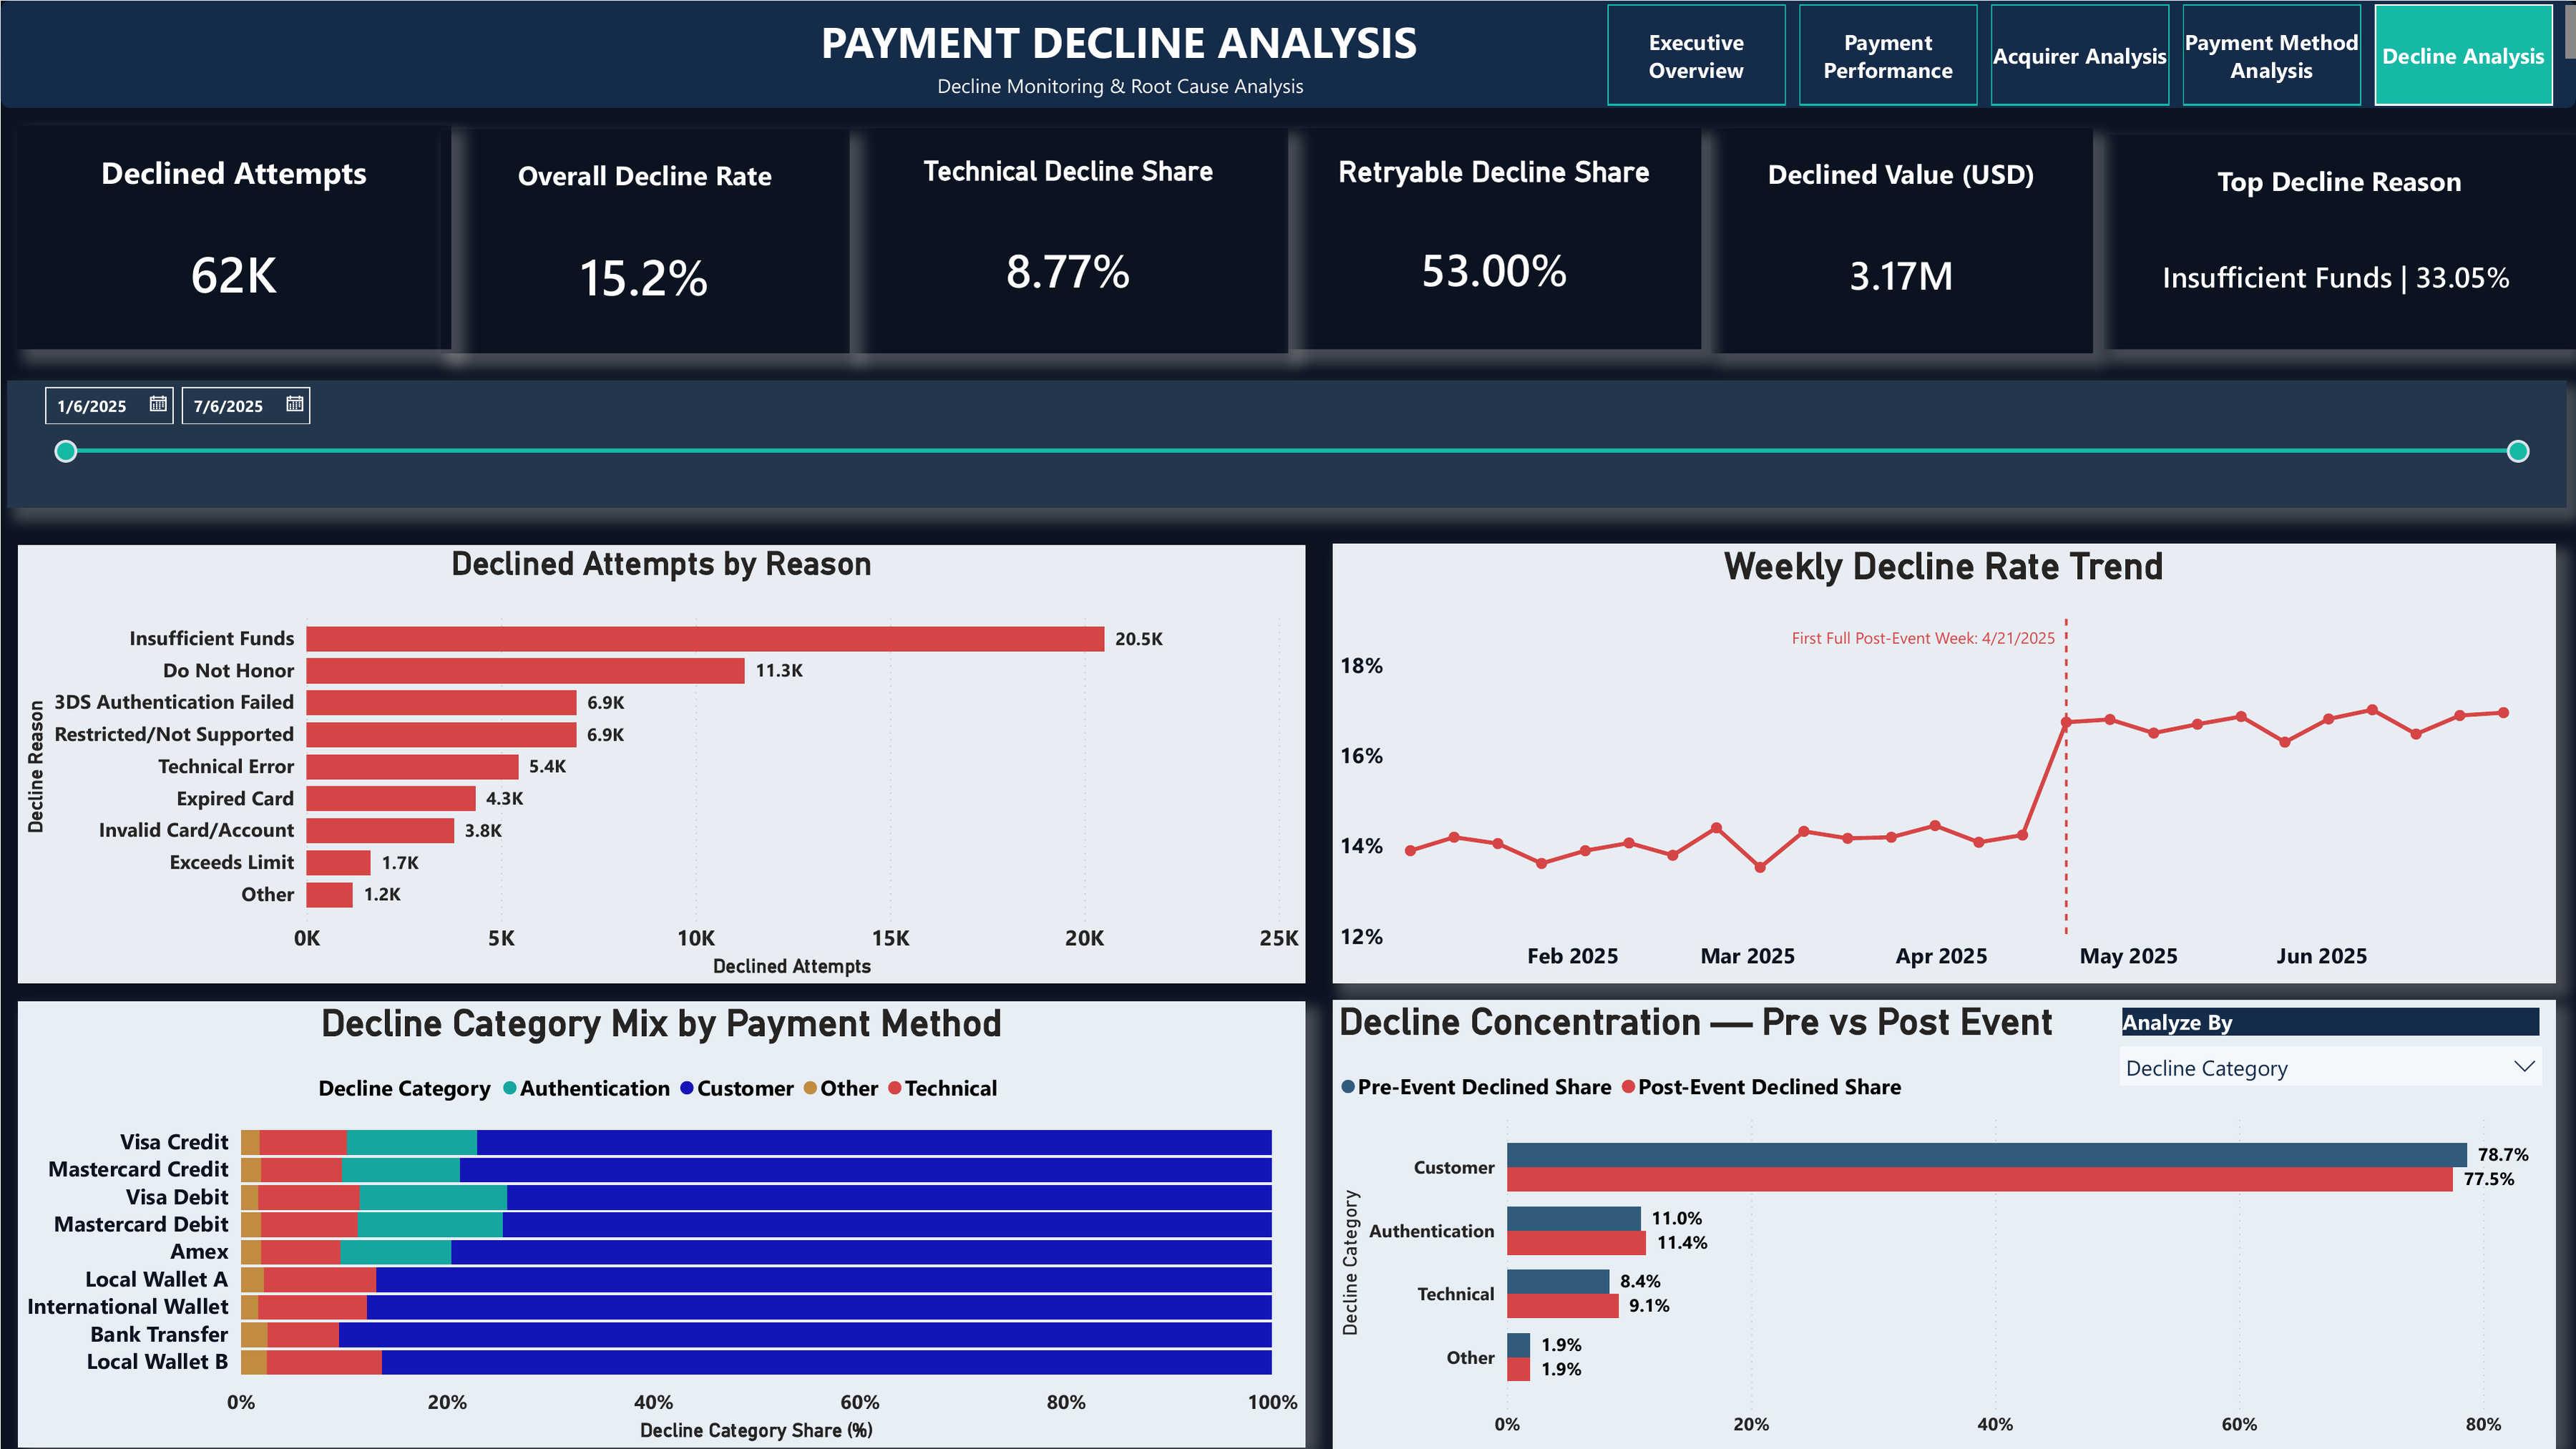

What the dashboard file says about the page in this screenshot:
{"tool":"powerbi","page":{"name":"Decline Analysis","canvas":[1920,1080],"ordinal":4},"visuals":[{"type":"shape","box":[0,0,1920,80],"z":0},{"type":"textbox","box":[480,2.5,707.5,60],"z":1000},{"type":"textbox","box":[640,47.5,390,35],"z":2000},{"type":"cardVisual","title":"Declined Attempts","fields":{"Data":["_Measures.Declined Transactions"]},"box":[11.9,92.9,323.8,166.7],"z":3000},{"type":"cardVisual","title":"Retryable Decline Share","fields":{"Data":["_Measures.Retryable Decline Share"]},"box":[960,95,307.5,165],"z":4000},{"type":"slicer","title":"Date Range","fields":{"Values":["DimDate.FullDate"]},"box":[5,282.5,1907.5,95],"z":5000},{"type":"cardVisual","title":"Overall Decline Rate","fields":{"Data":["_Measures.Decline Rate - All Attempts"]},"box":[328.2,96.1,304.8,166.4],"z":6000},{"type":"cardVisual","title":"Declined Value (USD)","fields":{"Data":["_Measures.Declined Payment Volume"]},"box":[1275,95,285,167.5],"z":7000},{"type":"cardVisual","title":"Technical Decline Share","fields":{"Data":["_Measures.Technical Decline Share"]},"box":[632.5,95,327.5,167.5],"z":8000},{"type":"lineChart","title":"\tWeekly Decline Rate Trend","fields":{"Category":["DimDate.Week Start Date"],"Y":["_Measures.Decline Rate - All Attempts"]},"box":[992.5,405,912.5,327.5],"z":9000},{"type":"clusteredBarChart","title":"Decline Concentration — Pre vs Post Event","fields":{"Category":["DimDeclineReason.DeclineCategory"],"Y":["_Measures.Pre-Event Declined Share","_Measures.Post-Event Declined Share"]},"box":[992.5,745,912.5,335],"z":10000},{"type":"pageNavigator","box":[1197.5,2.5,722.5,80],"z":11000},{"type":"clusteredBarChart","title":"Declined Attempts by Reason","fields":{"Category":["DimDeclineReason.DeclineReasonDescription"],"Y":["_Measures.Declined Transactions"]},"box":[12.9,405.7,960,327.1],"z":12000},{"type":"hundredPercentStackedBarChart","title":"\tDecline Category Mix by Payment Method","fields":{"Category":["DimPaymentMethod.PaymentMethodName"],"Series":["DimDeclineReason.DeclineCategory"],"Y":["_Measures.Declined Transactions"]},"box":[12.9,745.7,960,332.9],"z":13000},{"type":"cardVisual","title":"\tTop Decline Reason","fields":{"Data":["_Measures.Top Decline Reason Card"]},"box":[1567.5,100,352.5,160],"z":14000},{"type":"slicer","fields":{"Values":["Analyze By.Analyze By"]},"box":[1568.6,745.7,337.1,71.4],"z":15000}]}

Visuals, with their boxes in screenshot pixels (x1, y1, x2, y2), scaled from the page's 1920x1080 canvas onto the 2576x1449 screenshot:
shape: 0:0:2575:107
textbox: 644:4:1594:84
textbox: 859:64:1382:111
"Declined Attempts" cardVisual: 16:125:450:348
"Retryable Decline Share" cardVisual: 1288:127:1701:349
"Date Range" slicer: 6:379:2566:507
"Overall Decline Rate" cardVisual: 440:129:849:352
"Declined Value (USD)" cardVisual: 1711:127:2093:352
"Technical Decline Share" cardVisual: 849:127:1288:352
"	Weekly Decline Rate Trend" lineChart: 1332:543:2556:982
"Decline Concentration — Pre vs Post Event" clusteredBarChart: 1332:1000:2556:1448
pageNavigator: 1606:4:2575:111
"Declined Attempts by Reason" clusteredBarChart: 17:545:1305:983
"	Decline Category Mix by Payment Method" hundredPercentStackedBarChart: 17:1000:1305:1447
"	Top Decline Reason" cardVisual: 2103:135:2575:349
slicer - Analyze By.Analyze By: 2104:1000:2557:1096
